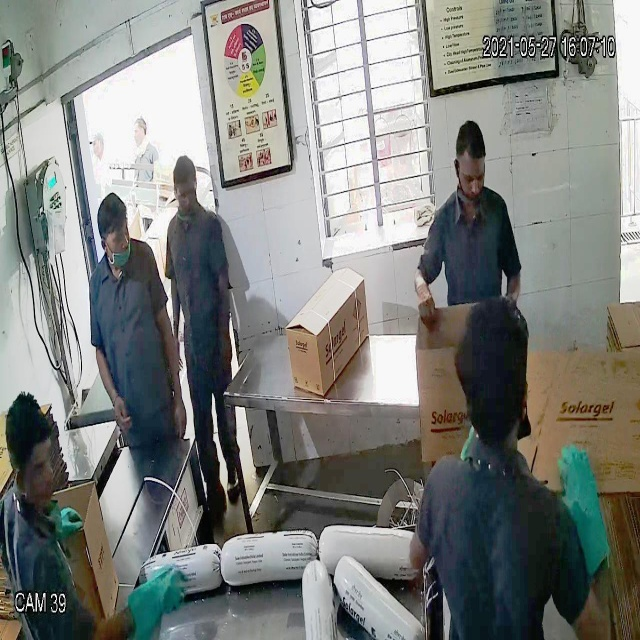Sin_gafas: (451, 155, 492, 196), (99, 218, 132, 252)
